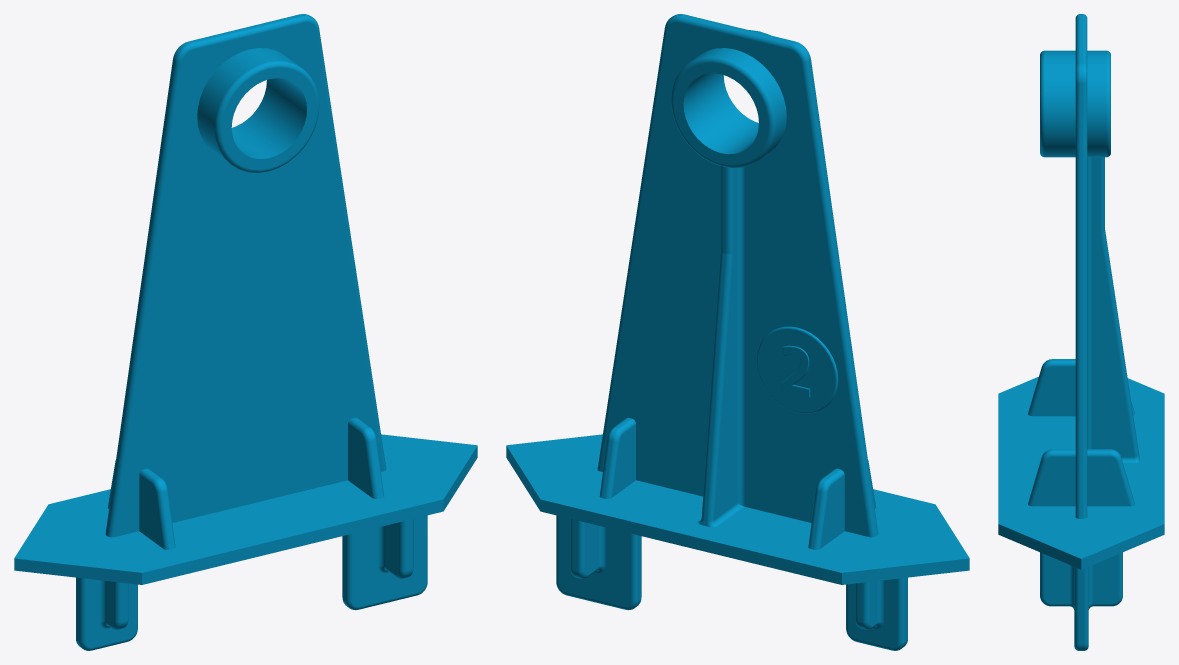
The model's file is PART 2 BEARING.fbx.
3 renders of one model, left to right at view 1: azimuth 30°, elevation 25°; view 2: azimuth 150°, elevation 25°; view 3: azimuth 270°, elevation 25°, orthographic. The views are drawn at different scales.
Parts seen in each view (by area): view 1: PART 2 BEARING; view 2: PART 2 BEARING; view 3: PART 2 BEARING.
Boxes of the visible parts, x1=… form: PART 2 BEARING: x1=14, y1=14, x2=477, y2=650; PART 2 BEARING: x1=506, y1=14, x2=969, y2=650; PART 2 BEARING: x1=998, y1=14, x2=1164, y2=650.
Bounding box in the file's own units: 6.35 × 7.94 × 2.22.
